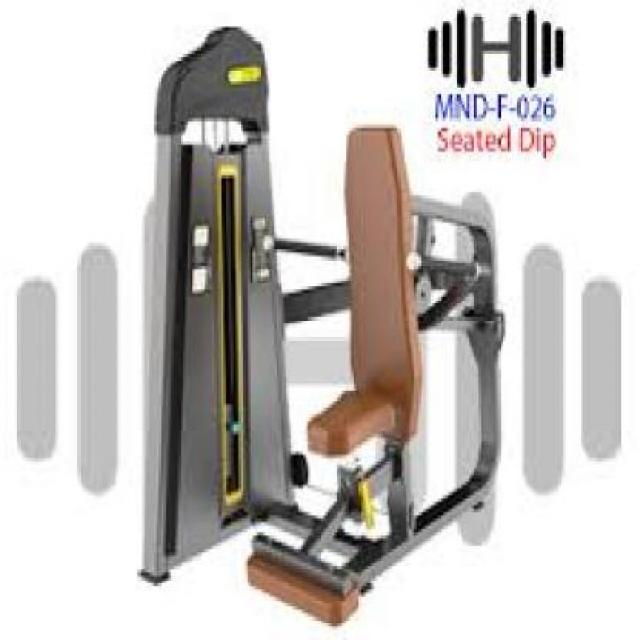seated dip machine: (128, 14, 515, 631)
